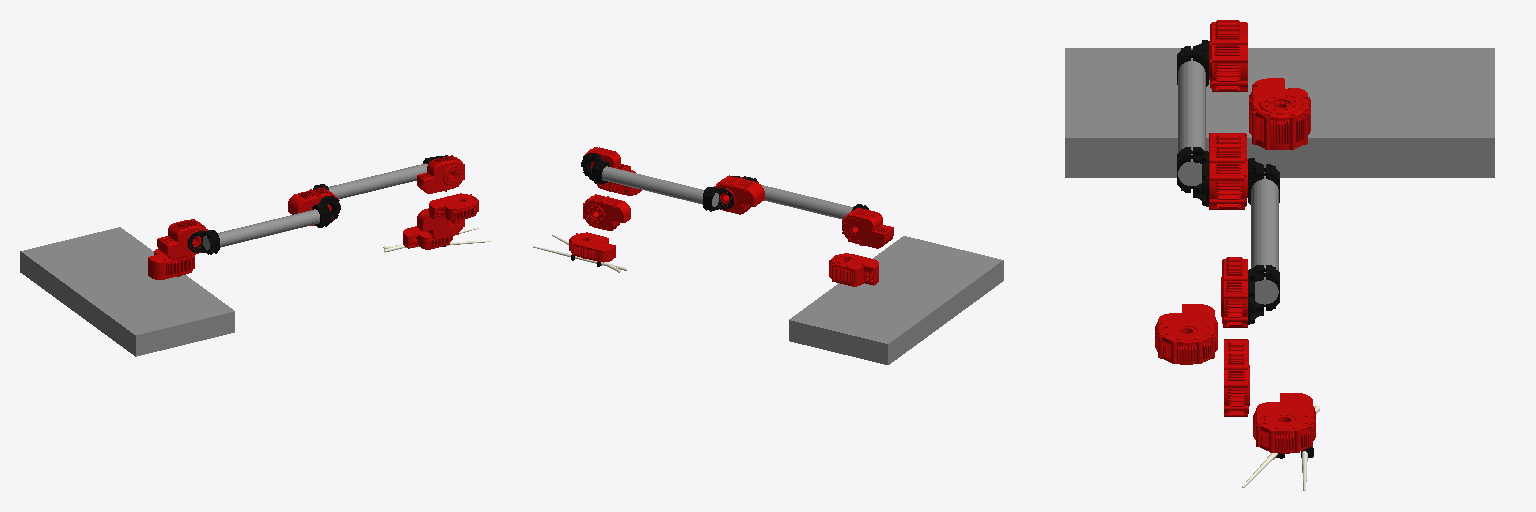
--- What the picture shows (computed from the rendered views, not written in the file) ---
3 views of the same robot in one strip: view 1: azimuth 30°, elevation 25°; view 2: azimuth 150°, elevation 25°; view 3: azimuth 270°, elevation 25° (orthographic).
Model hebi with 24 links and 23 joints (5 revolute, 2 continuous, 16 fixed), rooted at world, posed every joint at zero.
Visible links, largest first — view 1: base, shoulder_elbow/INPUT_INTERFACE, elbow_wrist1/INPUT_INTERFACE, HEBI/wrist1/INPUT_INTERFACE, HEBI/shoulder/INPUT_INTERFACE, HEBI/wrist2/INPUT_INTERFACE, HEBI/base/INPUT_INTERFACE, HEBI/wrist3/INPUT_INTERFACE, HEBI/elbow/INPUT_INTERFACE, HEBI/chopstick_actuator/INPUT_INTERFACE; view 2: base, elbow_wrist1/INPUT_INTERFACE, HEBI/shoulder/INPUT_INTERFACE, HEBI/base/INPUT_INTERFACE, shoulder_elbow/INPUT_INTERFACE, HEBI/wrist3/INPUT_INTERFACE, HEBI/elbow/INPUT_INTERFACE, HEBI/chopstick_actuator/INPUT_INTERFACE; view 3: base, shoulder_elbow/INPUT_INTERFACE, elbow_wrist1/INPUT_INTERFACE, HEBI/base/INPUT_INTERFACE, HEBI/wrist2/INPUT_INTERFACE, HEBI/chopstick_actuator/INPUT_INTERFACE, HEBI/elbow/INPUT_INTERFACE, HEBI/shoulder/INPUT_INTERFACE, HEBI/wrist3/INPUT_INTERFACE, HEBI/wrist1/INPUT_INTERFACE.
Boxes of the visible links, x1=… form: base: x1=20, y1=227, x2=234, y2=356; shoulder_elbow/INPUT_INTERFACE: x1=188, y1=196, x2=340, y2=254; elbow_wrist1/INPUT_INTERFACE: x1=313, y1=155, x2=447, y2=198; HEBI/wrist1/INPUT_INTERFACE: x1=417, y1=155, x2=464, y2=193; HEBI/shoulder/INPUT_INTERFACE: x1=157, y1=219, x2=208, y2=259; HEBI/wrist2/INPUT_INTERFACE: x1=429, y1=193, x2=478, y2=220; HEBI/base/INPUT_INTERFACE: x1=148, y1=249, x2=194, y2=279; HEBI/wrist3/INPUT_INTERFACE: x1=417, y1=208, x2=464, y2=239; HEBI/elbow/INPUT_INTERFACE: x1=288, y1=187, x2=339, y2=225; HEBI/chopstick_actuator/INPUT_INTERFACE: x1=403, y1=226, x2=452, y2=249; base: x1=789, y1=236, x2=1003, y2=364; elbow_wrist1/INPUT_INTERFACE: x1=581, y1=153, x2=733, y2=211; HEBI/shoulder/INPUT_INTERFACE: x1=842, y1=208, x2=893, y2=248; HEBI/base/INPUT_INTERFACE: x1=829, y1=253, x2=878, y2=286; shoulder_elbow/INPUT_INTERFACE: x1=731, y1=176, x2=868, y2=218; HEBI/wrist3/INPUT_INTERFACE: x1=583, y1=194, x2=630, y2=230; HEBI/elbow/INPUT_INTERFACE: x1=714, y1=175, x2=764, y2=214; HEBI/chopstick_actuator/INPUT_INTERFACE: x1=569, y1=232, x2=615, y2=262; base: x1=1065, y1=48, x2=1494, y2=177; shoulder_elbow/INPUT_INTERFACE: x1=1177, y1=40, x2=1208, y2=206; elbow_wrist1/INPUT_INTERFACE: x1=1248, y1=158, x2=1279, y2=324; HEBI/base/INPUT_INTERFACE: x1=1249, y1=78, x2=1310, y2=149; HEBI/wrist2/INPUT_INTERFACE: x1=1155, y1=304, x2=1217, y2=364; HEBI/chopstick_actuator/INPUT_INTERFACE: x1=1253, y1=393, x2=1315, y2=453; HEBI/elbow/INPUT_INTERFACE: x1=1209, y1=133, x2=1247, y2=209; HEBI/shoulder/INPUT_INTERFACE: x1=1209, y1=20, x2=1247, y2=91; HEBI/wrist3/INPUT_INTERFACE: x1=1224, y1=339, x2=1249, y2=416; HEBI/wrist1/INPUT_INTERFACE: x1=1221, y1=257, x2=1247, y2=327.
Size in the robot's own frame: 1.02 by 0.5 by 0.2346 metres.
Meshes: 11 distinct files referenced, 17 mesh visuals loaded (7 binary STL); not drawn: 5 (reference not matched to a file when rendering).

The robot description file, URDF, robot "hebi":
<?xml version="1.0" ?>
<!-- =================================================================================== -->
<!-- |    This document was autogenerated by xacro from src/hebi_description/robots/hebi_chopsticks.xacro | -->
<!-- |    EDITING THIS FILE BY HAND IS NOT RECOMMENDED                                 | -->
<!-- =================================================================================== -->
<!-- HEBI A-2085-06 6-DoF Robot Arm Kit -->
<robot name="hebi" xmlns:xacro="http://www.ros.org/wiki/xacro">
  <!-- This is a single xacro file you can include to get
  all of the HEBI components -->
  <!-- world -->
  <link name="world"/>
  <joint name="world_joint" type="fixed">
    <origin rpy="0 0 0" xyz="0 0 0"/>
    <parent link="world"/>
    <child link="base"/>
  </joint>
  <!-- just for visualization: base post -->
  <link name="base">
    <visual>
      <origin rpy="0 0 0" xyz="-.125 0 -.0254"/>
      <geometry>
        <box size="0.25 0.5 0.0508"/>
      </geometry>
      <material name="silver">
        <color rgba="0.6 0.6 0.6 1"/>
      </material>
    </visual>
    <collision>
      <origin rpy="0 0 0" xyz="-.125 0 -.0254"/>
      <geometry>
        <box size="0.25 0.5 0.0508"/>
      </geometry>
    </collision>
    <inertial>
      <origin rpy="0 0 0" xyz=".125 0 -.0254"/>
      <mass value="1.0"/>
      <inertia ixx="1.0" ixy="0.0" ixz="0.0" iyy="1.0" iyz="0.0" izz="1.0"/>
    </inertial>
  </link>
  <joint name="base_base" type="fixed">
    <parent link="base"/>
    <child link="HEBI/base/INPUT_INTERFACE"/>
    <origin rpy="0 0 0" xyz="0 0 0"/>
  </joint>
  <link name="HEBI/base/INPUT_INTERFACE">
    <visual>
      <origin rpy="0 0 0" xyz="0 0 0"/>
      <geometry>
        <mesh filename="package://hebi_description/meshes/X8.stl" scale="0.001 0.001 0.001"/>
      </geometry>
      <material name="red">
        <color rgba=".82 0.06 0.06 1"/>
      </material>
    </visual>
    <collision>
      <origin rpy="0 0 0" xyz="0 0 0"/>
      <geometry>
        <mesh filename="package://hebi_description/meshes/X8.stl" scale="0.001 0.001 0.001"/>
      </geometry>
    </collision>
    <inertial>
      <origin rpy="0 0 0" xyz="-0.0145 -0.0031 0.0242"/>
      <mass value="0.48"/>
      <inertia ixx="0.000246" ixy="0.0000444" ixz="0.0000266" iyy="0.000380" iyz="0.00000422" izz="0.000463"/>
    </inertial>
  </link>
  <joint name="HEBI/base/X8_9" type="revolute">
    <parent link="HEBI/base/INPUT_INTERFACE"/>
    <child link="shoulder_bracket/INPUT_INTERFACE"/>
    <origin rpy="0 0 0" xyz="0 0 0.045"/>
    <axis xyz="0 0 1"/>
    <limit effort="20" lower="-6.28318530718" upper="3.14159265359" velocity="30"/>
    <dynamics damping="0.5" friction="0.5"/>
  </joint>
  <link name="shoulder_bracket/INPUT_INTERFACE">
    <visual>
      <origin rpy="1.57079632679 0 1.57079632679" xyz="0 0 0.005"/>
      <geometry>
        <mesh filename="package://hebi_description/meshes/PM-2149-01.stl" scale="0.001 0.001 0.001"/>
      </geometry>
      <material name="black">
        <color rgba="0.1 0.1 0.1 1"/>
      </material>
    </visual>
    <visual>
      <origin rpy="1.57079632679 0 0" xyz="0 -.03 .04"/>
      <geometry>
        <mesh filename="package://hebi_description/meshes/PM-2150-01R.stl" scale="0.001 0.001 0.001"/>
      </geometry>
      <material name="black">
        <color rgba="0.1 0.1 0.1 1"/>
      </material>
    </visual>
    <collision>
      <origin rpy="1.57079632679 0 1.57079632679" xyz="0 0 0.005"/>
      <geometry>
        <mesh filename="package://hebi_description/meshes/PM-2149-01.stl" scale="0.001 0.001 0.001"/>
      </geometry>
    </collision>
    <collision>
      <origin rpy="1.57079632679 0 0" xyz="0 -.03 .04"/>
      <geometry>
        <mesh filename="package://hebi_description/meshes/PM-2150-01R.stl" scale="0.001 0.001 0.001"/>
      </geometry>
    </collision>
    <!-- NOTE: inertia is just modelled as small sphere, and could be improved. -->
    <inertial>
      <origin rpy="0 0 0" xyz="0 -0.01875 .0275"/>
      <mass value="0.215"/>
      <inertia ixx="0.0003096" ixy="0.0" ixz="0.0" iyy="0.0003096" iyz="0.0" izz="0.0003096"/>
    </inertial>
  </link>
  <joint name="shoulder_bracket/OUTPUT_INTERFACE" type="fixed">
    <parent link="shoulder_bracket/INPUT_INTERFACE"/>
    <child link="HEBI/shoulder/INPUT_INTERFACE"/>
    <origin rpy="1.57079632679 0 0" xyz="0 -.0375 .055"/>
  </joint>
  <link name="HEBI/shoulder/INPUT_INTERFACE">
    <visual>
      <origin rpy="0 0 0" xyz="0 0 0"/>
      <geometry>
        <mesh filename="package://hebi_description/meshes/X8.stl" scale="0.001 0.001 0.001"/>
      </geometry>
      <material name="red">
        <color rgba=".82 0.06 0.06 1"/>
      </material>
    </visual>
    <collision>
      <origin rpy="0 0 0" xyz="0 0 0"/>
      <geometry>
        <mesh filename="package://hebi_description/meshes/X8.stl" scale="0.001 0.001 0.001"/>
      </geometry>
    </collision>
    <inertial>
      <origin rpy="0 0 0" xyz="-0.0145 -0.0031 0.0242"/>
      <mass value="0.5"/>
      <inertia ixx="0.000246" ixy="0.0000444" ixz="0.0000266" iyy="0.000380" iyz="0.00000422" izz="0.000463"/>
    </inertial>
  </link>
  <joint name="HEBI/shoulder/X8_16" type="revolute">
    <parent link="HEBI/shoulder/INPUT_INTERFACE"/>
    <child link="shoulder_elbow/INPUT_INTERFACE"/>
    <origin rpy="0 0 0" xyz="0 0 0.045"/>
    <axis xyz="0 0 1"/>
    <limit effort="38" lower="-0.5" upper="3.14159265359" velocity="15"/>
    <dynamics damping="0.5" friction="0.5"/>
  </joint>
  <link name="shoulder_elbow/INPUT_INTERFACE">
    <visual>
      <origin rpy="0 0 0" xyz="0 0 0"/>
      <geometry>
        <mesh filename="package://hebi_description/meshes/A-2038-02.stl"/>
      </geometry>
      <material name="black">
        <color rgba="0.1 0.1 0.1 1"/>
      </material>
    </visual>
    <visual>
      <origin rpy="0 1.57075 0" xyz="0.1625 0 0.02"/>
      <geometry>
        <cylinder length="0.2996" radius=".016"/>
      </geometry>
      <material name="silver">
        <color rgba="0.6 0.6 0.6 1"/>
      </material>
    </visual>
    <visual>
      <origin rpy="-3.14159265359 0 0" xyz="0.325 -2.44929359829e-18 0.0"/>
      <geometry>
        <mesh filename="package://hebi_description/meshes/A-2039-02.stl"/>
      </geometry>
      <material name="black">
        <color rgba="0.1 0.1 0.1 1"/>
      </material>
    </visual>
    <collision>
      <origin rpy="0 0 0" xyz="0 0 0"/>
      <geometry>
        <mesh filename="package://hebi_description/meshes/A-2038-02.stl"/>
      </geometry>
    </collision>
    <collision>
      <origin rpy="0 1.57075 0" xyz="0.1625 0 0.02"/>
      <geometry>
        <cylinder length="0.2996" radius=".016"/>
      </geometry>
    </collision>
    <collision>
      <origin rpy="-3.14159265359 0 0" xyz="0.325 -2.44929359829e-18 0.0"/>
      <geometry>
        <mesh filename="package://hebi_description/meshes/A-2039-02.stl"/>
      </geometry>
    </collision>
    <!-- Approximate inertia as thin rod about x axis -->
    <inertial>
      <origin rpy="0 0 0" xyz="0.1625 0 0.02"/>
      <mass value="0.402"/>
      <inertia ixx="0.0" ixy="0.0" ixz="0.0" iyy="0.0035384375" iyz="0.0" izz="0.0035384375"/>
    </inertial>
  </link>
  <joint name="shoulder_elbow/OUTPUT_JOINT" type="fixed">
    <parent link="shoulder_elbow/INPUT_INTERFACE"/>
    <child link="HEBI/elbow/INPUT_INTERFACE"/>
    <origin rpy="3.14159265359 0 0" xyz="0.325 -2.44929359829e-18 0.0"/>
  </joint>
  <link name="HEBI/elbow/INPUT_INTERFACE">
    <visual>
      <origin rpy="0 0 0" xyz="0 0 0"/>
      <geometry>
        <mesh filename="package://hebi_description/meshes/X8.stl" scale="0.001 0.001 0.001"/>
      </geometry>
      <material name="red">
        <color rgba=".82 0.06 0.06 1"/>
      </material>
    </visual>
    <collision>
      <origin rpy="0 0 0" xyz="0 0 0"/>
      <geometry>
        <mesh filename="package://hebi_description/meshes/X8.stl" scale="0.001 0.001 0.001"/>
      </geometry>
    </collision>
    <inertial>
      <origin rpy="0 0 0" xyz="-0.0145 -0.0031 0.0242"/>
      <mass value="0.48"/>
      <inertia ixx="0.000246" ixy="0.0000444" ixz="0.0000266" iyy="0.000380" iyz="0.00000422" izz="0.000463"/>
    </inertial>
  </link>
  <joint name="HEBI/elbow/X8_9" type="revolute">
    <parent link="HEBI/elbow/INPUT_INTERFACE"/>
    <child link="elbow_wrist1/INPUT_INTERFACE"/>
    <origin rpy="0 0 0" xyz="0 0 0.045"/>
    <axis xyz="0 0 1"/>
    <limit effort="20" lower="-3" upper="3" velocity="30"/>
    <dynamics damping="0.5" friction="0.5"/>
  </joint>
  <link name="elbow_wrist1/INPUT_INTERFACE">
    <visual>
      <origin rpy="0 0 0" xyz="0 0 0"/>
      <geometry>
        <mesh filename="package://hebi_description/meshes/A-2038-02.stl"/>
      </geometry>
      <material name="black">
        <color rgba="0.1 0.1 0.1 1"/>
      </material>
    </visual>
    <visual>
      <origin rpy="0 1.57075 0" xyz="0.1625 0 0.02"/>
      <geometry>
        <cylinder length="0.2996" radius=".016"/>
      </geometry>
      <material name="silver">
        <color rgba="0.6 0.6 0.6 1"/>
      </material>
    </visual>
    <visual>
      <origin rpy="-3.14159265359 0 0" xyz="0.325 -2.44929359829e-18 0.0"/>
      <geometry>
        <mesh filename="package://hebi_description/meshes/A-2039-02.stl"/>
      </geometry>
      <material name="black">
        <color rgba="0.1 0.1 0.1 1"/>
      </material>
    </visual>
    <collision>
      <origin rpy="0 0 0" xyz="0 0 0"/>
      <geometry>
        <mesh filename="package://hebi_description/meshes/A-2038-02.stl"/>
      </geometry>
    </collision>
    <collision>
      <origin rpy="0 1.57075 0" xyz="0.1625 0 0.02"/>
      <geometry>
        <cylinder length="0.2996" radius=".016"/>
      </geometry>
    </collision>
    <collision>
      <origin rpy="-3.14159265359 0 0" xyz="0.325 -2.44929359829e-18 0.0"/>
      <geometry>
        <mesh filename="package://hebi_description/meshes/A-2039-02.stl"/>
      </geometry>
    </collision>
    <!-- Approximate inertia as thin rod about x axis -->
    <inertial>
      <origin rpy="0 0 0" xyz="0.1625 0 0.02"/>
      <mass value="0.402"/>
      <inertia ixx="0.0" ixy="0.0" ixz="0.0" iyy="0.0035384375" iyz="0.0" izz="0.0035384375"/>
    </inertial>
  </link>
  <joint name="elbow_wrist1/OUTPUT_JOINT" type="fixed">
    <parent link="elbow_wrist1/INPUT_INTERFACE"/>
    <child link="HEBI/wrist1/INPUT_INTERFACE"/>
    <origin rpy="3.14159265359 0 0" xyz="0.325 -2.44929359829e-18 0.0"/>
  </joint>
  <link name="HEBI/wrist1/INPUT_INTERFACE">
    <visual>
      <origin rpy="0 0 0" xyz="0 0 0"/>
      <geometry>
        <mesh filename="package://hebi_description/meshes/X5.stl" scale="0.001 0.001 0.001"/>
      </geometry>
      <material name="red">
        <color rgba=".82 0.06 0.06 1"/>
      </material>
    </visual>
    <collision>
      <origin rpy="0 0 0" xyz="0 0 0"/>
      <geometry>
        <mesh filename="package://hebi_description/meshes/X5.stl" scale="0.001 0.001 0.001"/>
      </geometry>
    </collision>
    <inertial>
      <origin rpy="0 0 0" xyz="-0.0142 -0.0031 0.0165"/>
      <mass value="0.315"/>
      <inertia ixx="0.00015" ixy="0.0000341" ixz="0.0000118" iyy="0.000255" iyz="0.00000229" izz="0.000350"/>
    </inertial>
  </link>
  <joint name="HEBI/wrist1/X5_1" type="revolute">
    <parent link="HEBI/wrist1/INPUT_INTERFACE"/>
    <child link="wrist1_wrist2/INPUT_INTERFACE"/>
    <origin rpy="0 0 0" xyz="0 0 0.031"/>
    <axis xyz="0 0 1"/>
    <limit effort="2.5" lower="-6.28318530718" upper="6.28318530718" velocity="90"/>
    <dynamics damping="0.1" friction="0.1"/>
  </joint>
  <link name="wrist1_wrist2/INPUT_INTERFACE">
    <visual>
      <origin rpy="1.57079632679 0 -1.57079632679" xyz="0 0 0"/>
      <geometry>
        <mesh filename="package://hebi_description/meshes/PM-2132-01R.stl" scale="0.001 0.001 0.001"/>
      </geometry>
      <material name="beige">
        <color rgba="0.96 0.945 0.871 1"/>
      </material>
    </visual>
    <collision>
      <origin rpy="1.57079632679 0 -1.57079632679" xyz="0 0 0"/>
      <geometry>
        <mesh filename="package://hebi_description/meshes/PM-2132-01R.stl" scale="0.001 0.001 0.001"/>
      </geometry>
    </collision>
    <!-- NOTE: inertia is just modelled as small sphere, and could be improved. -->
    <inertial>
      <origin rpy="0 0 0" xyz="0 -.0215 .02"/>
      <mass value="0.1"/>
      <inertia ixx="0.000144" ixy="0.0" ixz="0.0" iyy="0.000144" iyz="0.0" izz="0.000144"/>
    </inertial>
  </link>
  <joint name="wrist1_wrist2/OUTPUT_INTERFACE" type="fixed">
    <parent link="wrist1_wrist2/INPUT_INTERFACE"/>
    <child link="HEBI/wrist2/INPUT_INTERFACE"/>
    <origin rpy="1.57079632679 0 0" xyz="0 -.043 .04"/>
  </joint>
  <link name="HEBI/wrist2/INPUT_INTERFACE">
    <visual>
      <origin rpy="0 0 0" xyz="0 0 0"/>
      <geometry>
        <mesh filename="package://hebi_description/meshes/X5.stl" scale="0.001 0.001 0.001"/>
      </geometry>
      <material name="red">
        <color rgba=".82 0.06 0.06 1"/>
      </material>
    </visual>
    <collision>
      <origin rpy="0 0 0" xyz="0 0 0"/>
      <geometry>
        <mesh filename="package://hebi_description/meshes/X5.stl" scale="0.001 0.001 0.001"/>
      </geometry>
    </collision>
    <inertial>
      <origin rpy="0 0 0" xyz="-0.0142 -0.0031 0.0165"/>
      <mass value="0.315"/>
      <inertia ixx="0.00015" ixy="0.0000341" ixz="0.0000118" iyy="0.000255" iyz="0.00000229" izz="0.000350"/>
    </inertial>
  </link>
  <joint name="HEBI/wrist2/X5_1" type="revolute">
    <parent link="HEBI/wrist2/INPUT_INTERFACE"/>
    <child link="wrist2_wrist3/INPUT_INTERFACE"/>
    <origin rpy="0 0 0" xyz="0 0 0.031"/>
    <axis xyz="0 0 1"/>
    <limit effort="2.5" lower="-4.71238898038" upper="4.71238898038" velocity="90"/>
    <dynamics damping="0.1" friction="0.1"/>
  </joint>
  <link name="wrist2_wrist3/INPUT_INTERFACE">
    <visual>
      <origin rpy="1.57079632679 0 -1.57079632679" xyz="0 0 0"/>
      <geometry>
        <mesh filename="package://hebi_description/meshes/PM-2132-01R.stl" scale="0.001 0.001 0.001"/>
      </geometry>
      <material name="beige">
        <color rgba="0.96 0.945 0.871 1"/>
      </material>
    </visual>
    <collision>
      <origin rpy="1.57079632679 0 -1.57079632679" xyz="0 0 0"/>
      <geometry>
        <mesh filename="package://hebi_description/meshes/PM-2132-01R.stl" scale="0.001 0.001 0.001"/>
      </geometry>
    </collision>
    <!-- NOTE: inertia is just modelled as small sphere, and could be improved. -->
    <inertial>
      <origin rpy="0 0 0" xyz="0 -.0215 .02"/>
      <mass value="0.1"/>
      <inertia ixx="0.000144" ixy="0.0" ixz="0.0" iyy="0.000144" iyz="0.0" izz="0.000144"/>
    </inertial>
  </link>
  <joint name="wrist2_wrist3/OUTPUT_INTERFACE" type="fixed">
    <parent link="wrist2_wrist3/INPUT_INTERFACE"/>
    <child link="HEBI/wrist3/INPUT_INTERFACE"/>
    <origin rpy="1.57079632679 0 0" xyz="0 -.043 .04"/>
  </joint>
  <link name="HEBI/wrist3/INPUT_INTERFACE">
    <visual>
      <origin rpy="0 0 0" xyz="0 0 0"/>
      <geometry>
        <mesh filename="package://hebi_description/meshes/X5.stl" scale="0.001 0.001 0.001"/>
      </geometry>
      <material name="red">
        <color rgba=".82 0.06 0.06 1"/>
      </material>
    </visual>
    <collision>
      <origin rpy="0 0 0" xyz="0 0 0"/>
      <geometry>
        <mesh filename="package://hebi_description/meshes/X5.stl" scale="0.001 0.001 0.001"/>
      </geometry>
    </collision>
    <inertial>
      <origin rpy="0 0 0" xyz="-0.0142 -0.0031 0.0165"/>
      <mass value="0.315"/>
      <inertia ixx="0.00015" ixy="0.0000341" ixz="0.0000118" iyy="0.000255" iyz="0.00000229" izz="0.000350"/>
    </inertial>
  </link>
  <joint name="HEBI/wrist3/X5_1" type="continuous">
    <parent link="HEBI/wrist3/INPUT_INTERFACE"/>
    <child link="wrist3_chopstick/INPUT_INTERFACE"/>
    <origin rpy="0 0 0" xyz="0 0 0.031"/>
    <axis xyz="0 0 1"/>
    <limit effort="2.5" velocity="90"/>
    <dynamics damping="0.1" friction="0.1"/>
  </joint>
  <link name="wrist3_chopstick/INPUT_INTERFACE">
    <visual>
      <origin rpy="1.57079632679 0 1.57079632679" xyz="0 0 0"/>
      <geometry>
        <mesh filename="package://hebi_description/meshes/PM-2132-01L.stl" scale="0.001 0.001 0.001"/>
      </geometry>
      <material name="beige">
        <color rgba="0.96 0.945 0.871 1"/>
      </material>
    </visual>
    <collision>
      <origin rpy="1.57079632679 0 1.57079632679" xyz="0 0 0"/>
      <geometry>
        <mesh filename="package://hebi_description/meshes/PM-2132-01L.stl" scale="0.001 0.001 0.001"/>
      </geometry>
    </collision>
    <!-- NOTE: inertia is just modelled as small sphere, and could be improved. -->
    <inertial>
      <origin rpy="0 0 0" xyz="0 .0215 .02"/>
      <mass value="0.1"/>
      <inertia ixx="0.000144" ixy="0.0" ixz="0.0" iyy="0.000144" iyz="0.0" izz="0.000144"/>
    </inertial>
  </link>
  <joint name="wrist3_chopstick/OUTPUT_INTERFACE" type="fixed">
    <parent link="wrist3_chopstick/INPUT_INTERFACE"/>
    <child link="HEBI/chopstick_actuator/INPUT_INTERFACE"/>
    <origin rpy="-1.57079632679 0 0" xyz="0 .043 .04"/>
  </joint>
  <link name="HEBI/chopstick_actuator/INPUT_INTERFACE">
    <visual>
      <origin rpy="0 0 0" xyz="0 0 0"/>
      <geometry>
        <mesh filename="package://hebi_description/meshes/X5.stl" scale="0.001 0.001 0.001"/>
      </geometry>
      <material name="red">
        <color rgba=".82 0.06 0.06 1"/>
      </material>
    </visual>
    <collision>
      <origin rpy="0 0 0" xyz="0 0 0"/>
      <geometry>
        <mesh filename="package://hebi_description/meshes/X5.stl" scale="0.001 0.001 0.001"/>
      </geometry>
    </collision>
    <inertial>
      <origin rpy="0 0 0" xyz="-0.0142 -0.0031 0.0165"/>
      <mass value="0.315"/>
      <inertia ixx="0.00015" ixy="0.0000341" ixz="0.0000118" iyy="0.000255" iyz="0.00000229" izz="0.000350"/>
    </inertial>
  </link>
  <joint name="HEBI/chopstick_actuator/X5_1" type="continuous">
    <parent link="HEBI/chopstick_actuator/INPUT_INTERFACE"/>
    <child link="end_effector/INPUT_INTERFACE"/>
    <origin rpy="0 0 0" xyz="0 0 0.031"/>
    <axis xyz="0 0 1"/>
    <limit effort="2.5" velocity="90"/>
    <dynamics damping="0.1" friction="0.1"/>
  </joint>
  <link name="HEBI/static_mount/chopstick_link">
    <visual>
      <origin rpy="0 0 0" xyz="0 0 0"/>
      <geometry>
        <mesh filename="package://hebi_description/meshes/chopstick.stl"/>
      </geometry>
      <material name="beige">
        <color rgba="0.96 0.945 0.871 1"/>
      </material>
    </visual>
    <collision>
      <origin rpy="0 0 0" xyz="0 0 0"/>
      <geometry>
        <mesh filename="package://hebi_description/meshes/chopstick_collision.stl"/>
      </geometry>
    </collision>
    <inertial>
      <origin rpy="0 0 0" xyz="0 0 0"/>
      <mass value="1.0"/>
      <inertia ixx="1.0" ixy="0.0" ixz="0.0" iyy="1.0" iyz="0.0" izz="1.0"/>
    </inertial>
  </link>
  <link name="HEBI/static_mount/chopstick_tip_link">
    <inertial>
      <origin rpy="0 0 0" xyz="0 0 0"/>
      <mass value="1.0"/>
      <inertia ixx="1.0" ixy="0.0" ixz="0.0" iyy="1.0" iyz="0.0" izz="1.0"/>
    </inertial>
  </link>
  <joint name="HEBI/static_mount/chopstick_to_tip_joint" type="fixed">
    <origin rpy="0 0 0" xyz="0.1185 0 0"/>
    <parent link="HEBI/static_mount/chopstick_link"/>
    <child link="HEBI/static_mount/chopstick_tip_link"/>
  </joint>
  <link name="HEBI/static_mount/back_mount_link">
    <visual>
      <origin rpy="0 0 0" xyz="0 0 0"/>
      <geometry>
        <mesh filename="package://hebi_description/meshes/chopstick_mount_m3.stl"/>
      </geometry>
      <material name="black">
        <color rgba="0.1 0.1 0.1 1"/>
      </material>
    </visual>
    <collision>
      <origin rpy="0 0 0" xyz="0 0 0"/>
      <geometry>
        <mesh filename="package://hebi_description/meshes/chopstick_mount_m3_collision.stl"/>
      </geometry>
    </collision>
    <inertial>
      <origin rpy="0 0 0" xyz="0 0 0"/>
      <mass value="1.0"/>
      <inertia ixx="1.0" ixy="0.0" ixz="0.0" iyy="1.0" iyz="0.0" izz="1.0"/>
    </inertial>
  </link>
  <joint name="HEBI/static_mount/chopstick_to_back_mount_joint" type="fixed">
    <origin rpy="0 0 0" xyz="-0.0515 -0.0045 0"/>
    <parent link="HEBI/static_mount/chopstick_link"/>
    <child link="HEBI/static_mount/back_mount_link"/>
  </joint>
  <link name="HEBI/static_mount/front_mount_link">
    <visual>
      <origin rpy="0 0 0" xyz="0 0 0"/>
      <geometry>
        <mesh filename="package://hebi_description/meshes/chopstick_mount_m3.stl"/>
      </geometry>
      <material name="black">
        <color rgba="0.1 0.1 0.1 1"/>
      </material>
    </visual>
    <collision>
      <origin rpy="0 0 0" xyz="0 0 0"/>
      <geometry>
        <mesh filename="package://hebi_description/meshes/chopstick_mount_m3_collision.stl"/>
      </geometry>
    </collision>
    <inertial>
      <origin rpy="0 0 0" xyz="0 0 0"/>
      <mass value="1.0"/>
      <inertia ixx="1.0" ixy="0.0" ixz="0.0" iyy="1.0" iyz="0.0" izz="1.0"/>
    </inertial>
  </link>
  <joint name="HEBI/static_mount/back_mount_to_front_mount_joint" type="fixed">
    <origin rpy="0 0 0" xyz="0.065 0 0"/>
    <parent link="HEBI/static_mount/back_mount_link"/>
    <child link="HEBI/static_mount/front_mount_link"/>
  </joint>
  <link name="HEBI/rotary_mount/chopstick_link">
    <visual>
      <origin rpy="0 0 0" xyz="0 0 0"/>
      <geometry>
        <mesh filename="package://hebi_description/meshes/chopstick.stl"/>
      </geometry>
      <material name="beige">
        <color rgba="0.96 0.945 0.871 1"/>
      </material>
    </visual>
    <collision>
      <origin rpy="0 0 0" xyz="0 0 0"/>
      <geometry>
        <mesh filename="package://hebi_description/meshes/chopstick_collision.stl"/>
      </geometry>
    </collision>
    <inertial>
      <origin rpy="0 0 0" xyz="0 0 0"/>
      <mass value="1.0"/>
      <inertia ixx="1.0" ixy="0.0" ixz="0.0" iyy="1.0" iyz="0.0" izz="1.0"/>
    </inertial>
  </link>
  <link name="HEBI/rotary_mount/chopstick_tip_link">
    <inertial>
      <origin rpy="0 0 0" xyz="0 0 0"/>
      <mass value="1.0"/>
      <inertia ixx="1.0" ixy="0.0" ixz="0.0" iyy="1.0" iyz="0.0" izz="1.0"/>
    </inertial>
  </link>
  <joint name="HEBI/rotary_mount/chopstick_to_tip_joint" type="fixed">
    <origin rpy="0 0 0" xyz="0.1185 0 0"/>
    <parent link="HEBI/rotary_mount/chopstick_link"/>
    <child link="HEBI/rotary_mount/chopstick_tip_link"/>
  </joint>
  <link name="HEBI/rotary_mount/back_mount_link">
    <visual>
      <origin rpy="0 0 0" xyz="0 0 0"/>
      <geometry>
        <mesh filename="package://hebi_description/meshes/chopstick_mount_m5.stl"/>
      </geometry>
      <material name="black">
        <color rgba="0.1 0.1 0.1 1"/>
      </material>
    </visual>
    <collision>
      <origin rpy="0 0 0" xyz="0 0 0"/>
      <geometry>
        <mesh filename="package://hebi_description/meshes/chopstick_mount_m5_collision.stl"/>
      </geometry>
    </collision>
    <inertial>
      <origin rpy="0 0 0" xyz="0 0 0"/>
      <mass value="1.0"/>
      <inertia ixx="1.0" ixy="0.0" ixz="0.0" iyy="1.0" iyz="0.0" izz="1.0"/>
    </inertial>
  </link>
  <joint name="HEBI/rotary_mount/chopstick_to_back_mount_joint" type="fixed">
    <origin rpy="0 0 0" xyz="-0.0205 -0.0045 0"/>
    <parent link="HEBI/rotary_mount/chopstick_link"/>
    <child link="HEBI/rotary_mount/back_mount_link"/>
  </joint>
  <link name="HEBI/rotary_mount/front_mount_link">
    <visual>
      <origin rpy="0 0 0" xyz="0 0 0"/>
      <geometry>
        <mesh filename="package://hebi_description/meshes/chopstick_mount_m5.stl"/>
      </geometry>
      <material name="black">
        <color rgba="0.1 0.1 0.1 1"/>
      </material>
    </visual>
    <collision>
      <origin rpy="0 0 0" xyz="0 0 0"/>
      <geometry>
        <mesh filename="package://hebi_description/meshes/chopstick_mount_m5_collision.stl"/>
      </geometry>
    </collision>
    <inertial>
      <origin rpy="0 0 0" xyz="0 0 0"/>
      <mass value="1.0"/>
      <inertia ixx="1.0" ixy="0.0" ixz="0.0" iyy="1.0" iyz="0.0" izz="1.0"/>
    </inertial>
  </link>
  <joint name="HEBI/rotary_mount/back_mount_to_front_mount_joint" type="fixed">
    <origin rpy="0 0 0" xyz="0.03536 0 0"/>
    <parent link="HEBI/rotary_mount/back_mount_link"/>
    <child link="HEBI/rotary_mount/front_mount_link"/>
  </joint>
  <joint name="HEBI/static_mount_joint" type="fixed">
    <origin rpy="0 0 0" xyz="0.0015 -0.02325 0.036024"/>
    <parent link="HEBI/chopstick_actuator/INPUT_INTERFACE"/>
    <child link="HEBI/static_mount/chopstick_link"/>
  </joint>
  <!-- end link -->
  <link name="end_effector/INPUT_INTERFACE">
  </link>
  <joint name="HEBI/rotary_mount_joint" type="fixed">
    <origin rpy=" 0 0 0.3798" xyz="0.001 0.0048 0.005274"/>
    <parent link="end_effector/INPUT_INTERFACE"/>
    <child link="HEBI/rotary_mount/chopstick_link"/>
  </joint>
  <gazebo reference="base">
    <selfCollide>true</selfCollide>
  </gazebo>
  <gazebo>
    <plugin filename="libhebiros_gazebo_plugin.so" name="hebiros_gazebo_plugin">
    </plugin>
  </gazebo>
</robot>
